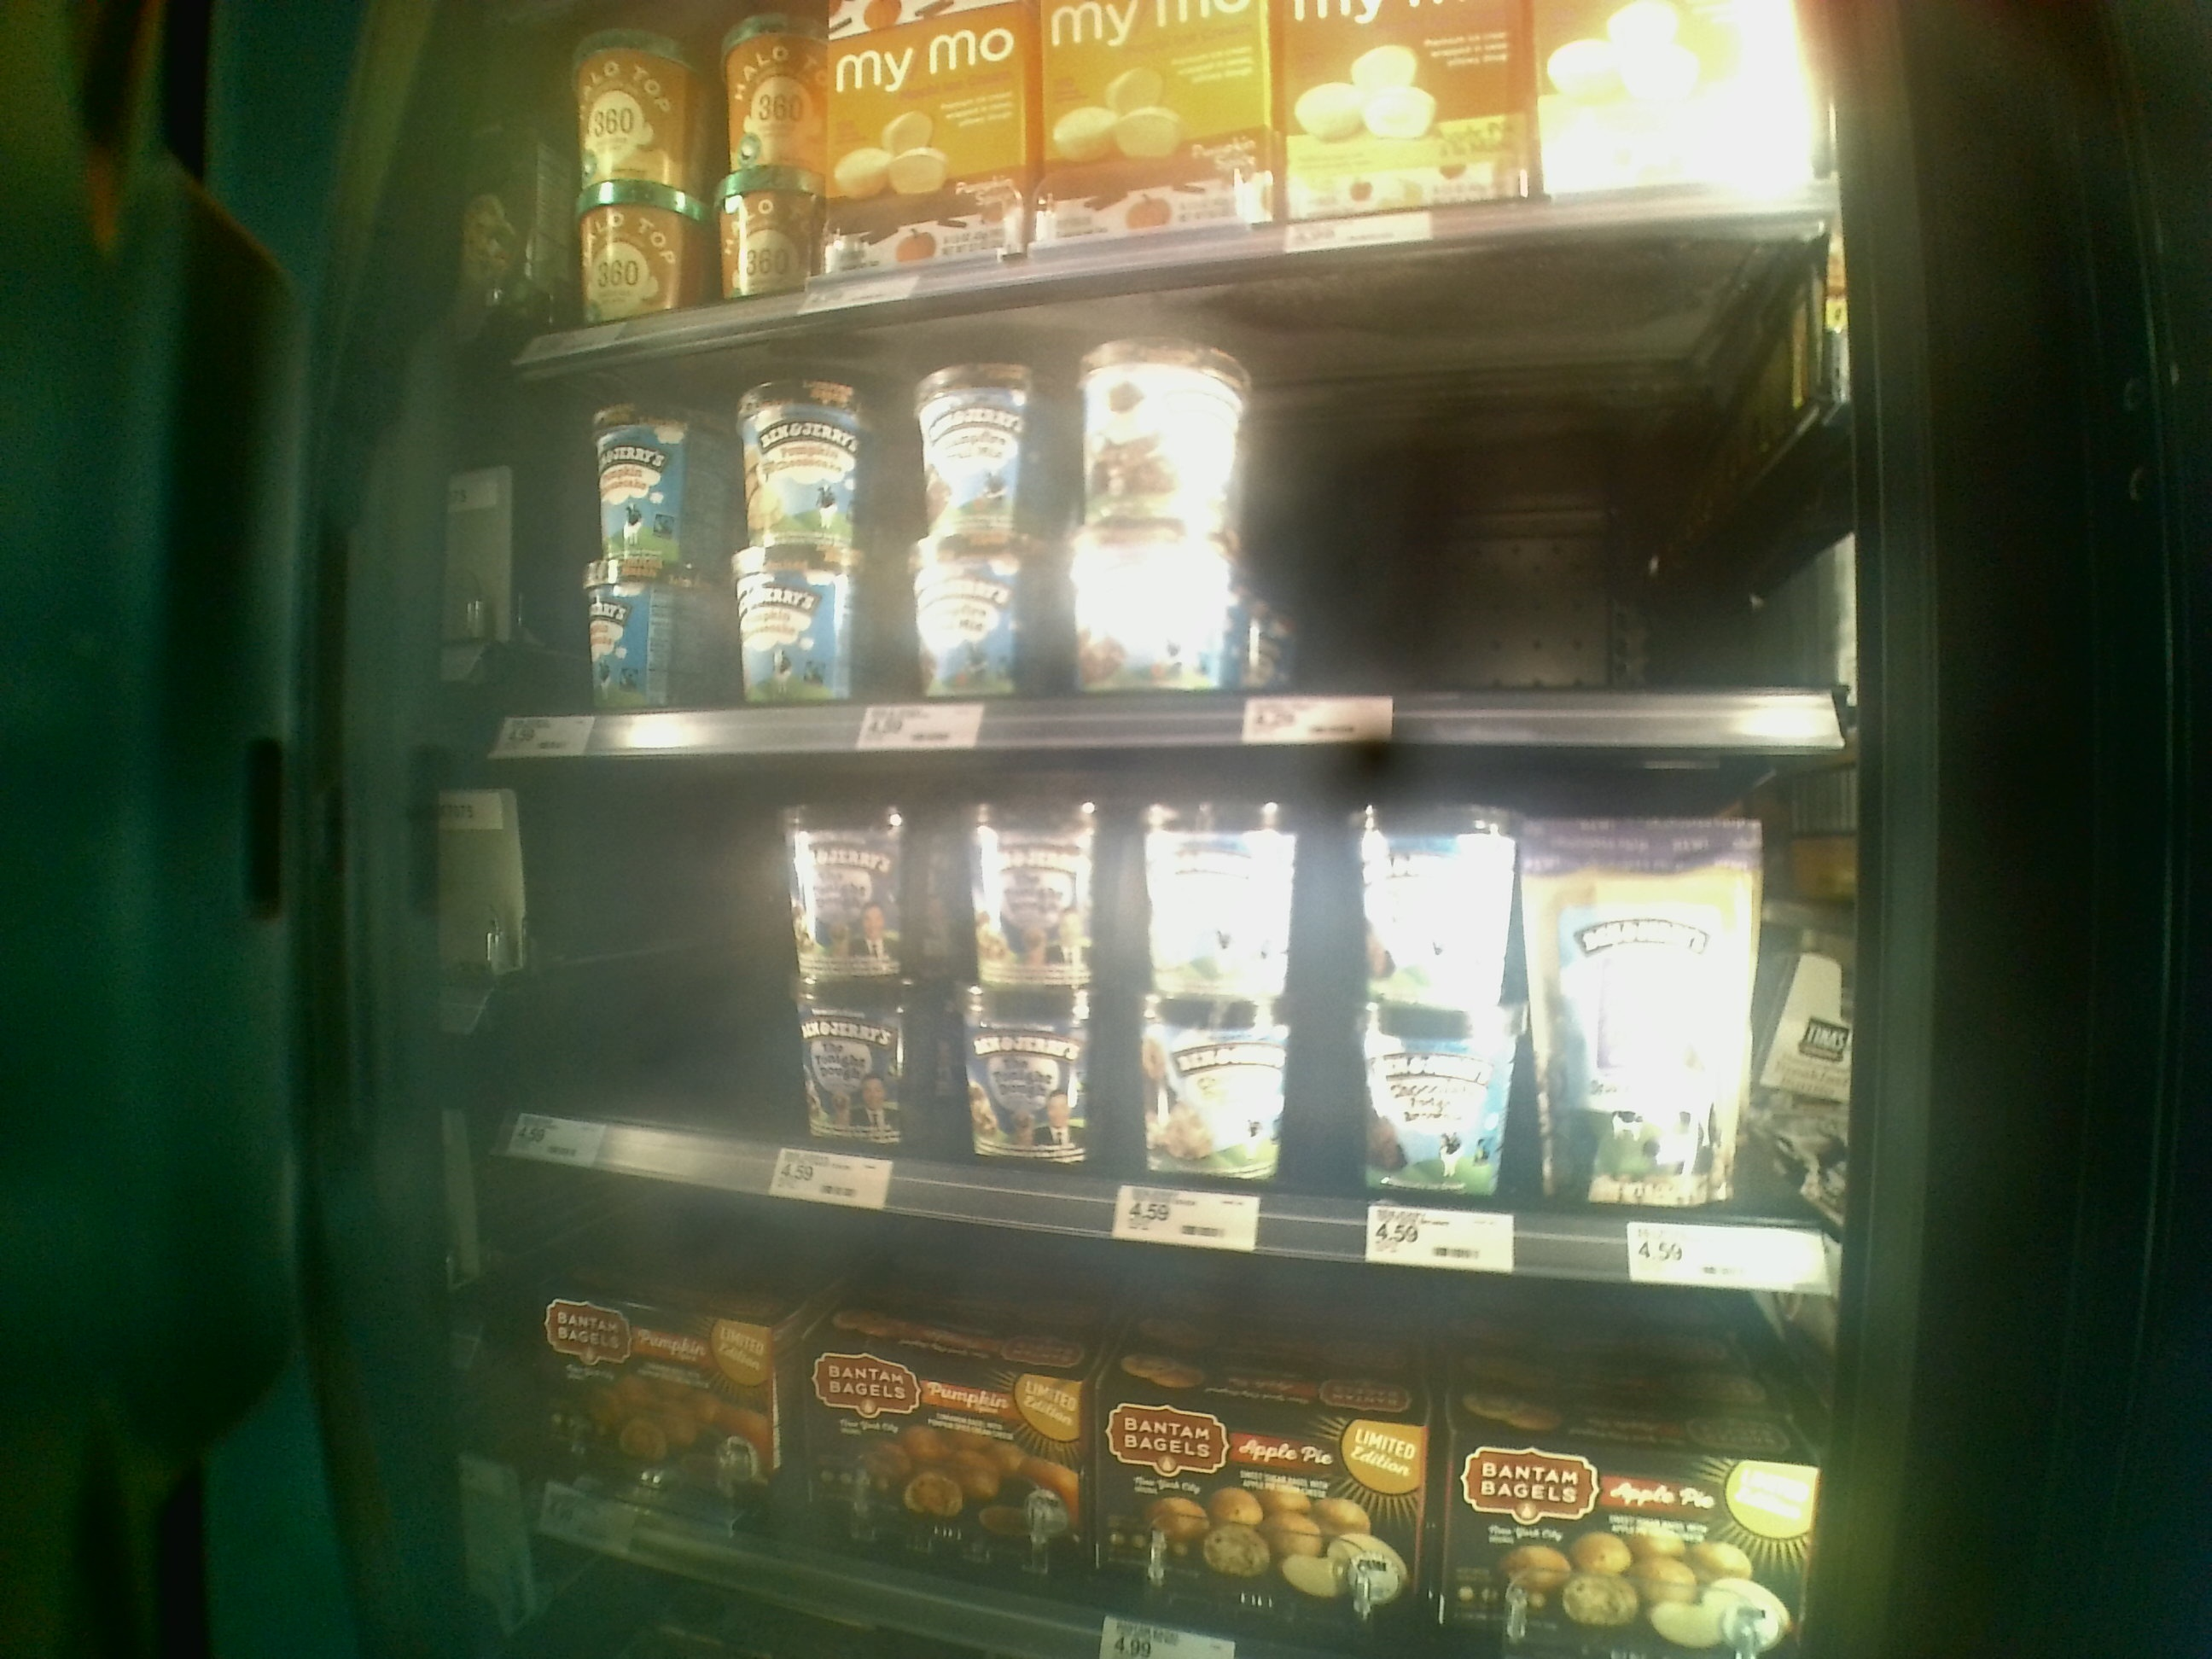shelf: (474, 774, 1848, 1300), (479, 343, 1858, 765)
